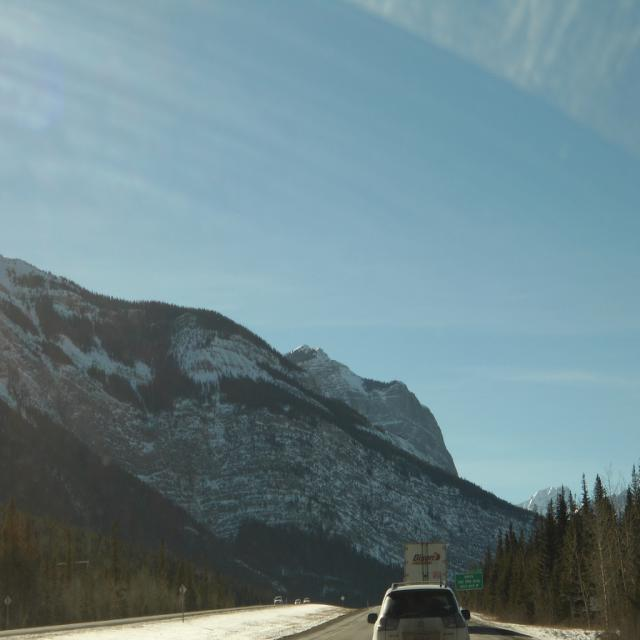car: (373, 556, 465, 638)
